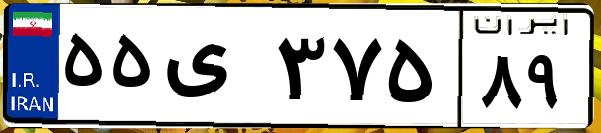3: (270, 28, 330, 110)
5: (385, 28, 445, 110), (57, 26, 110, 100), (110, 28, 158, 98)
7: (330, 28, 385, 110)
8: (475, 38, 525, 113)
9: (525, 38, 570, 115)
ی: (158, 20, 270, 120)
